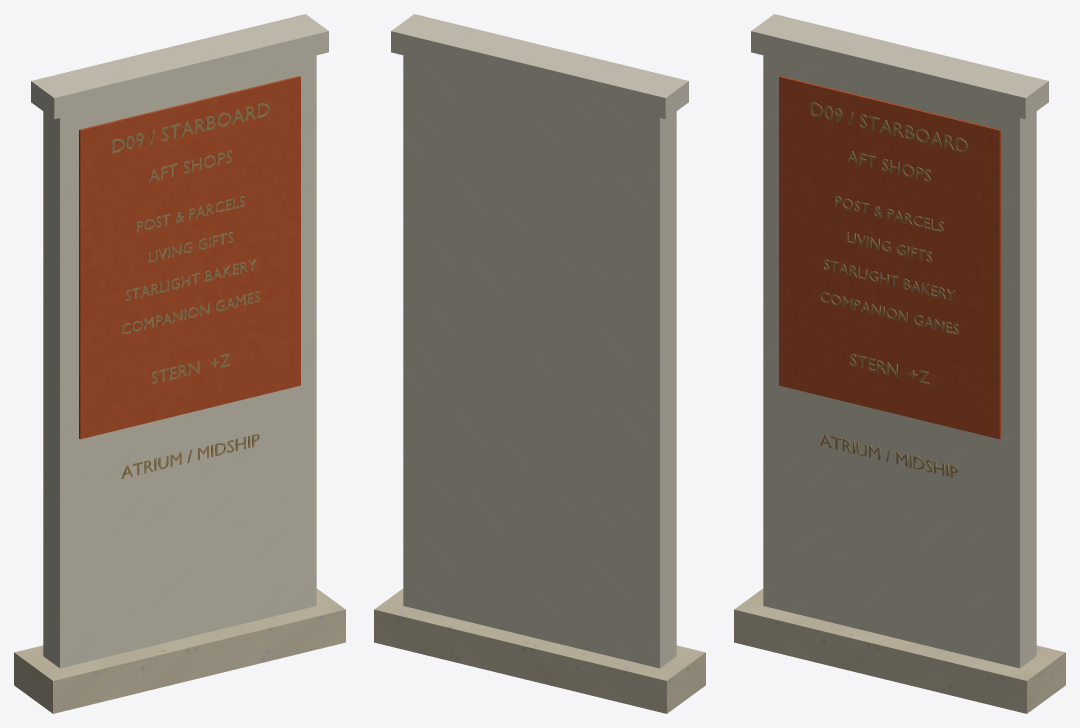
File: guide_starboard_aft_r001.glb
3 renders of one model, left to right at view 1: azimuth 30°, elevation 25°; view 2: azimuth 150°, elevation 25°; view 3: azimuth 330°, elevation 25°, orthographic.
Visible parts, largest first — view 1: profiled_column, recessed_orange_directory, weighted_plinth, crown, heading, atrium, venue_3, venue_2, venue_0, district, venue_1; view 2: profiled_column, weighted_plinth, crown; view 3: profiled_column, recessed_orange_directory, weighted_plinth, crown, heading, atrium, venue_3, venue_2, venue_0, venue_1, district.
Boxes of the visible parts, x1=… form: profiled_column: x1=43, y1=55, x2=316, y2=668; recessed_orange_directory: x1=79, y1=76, x2=300, y2=439; weighted_plinth: x1=14, y1=588, x2=345, y2=713; crown: x1=31, y1=14, x2=328, y2=119; heading: x1=112, y1=103, x2=269, y2=153; atrium: x1=121, y1=434, x2=259, y2=478; venue_3: x1=121, y1=291, x2=260, y2=334; venue_2: x1=125, y1=258, x2=256, y2=300; venue_0: x1=136, y1=196, x2=245, y2=232; district: x1=148, y1=150, x2=232, y2=182; venue_1: x1=148, y1=232, x2=233, y2=262; profiled_column: x1=403, y1=55, x2=676, y2=668; weighted_plinth: x1=374, y1=588, x2=705, y2=713; crown: x1=391, y1=14, x2=688, y2=119; profiled_column: x1=763, y1=55, x2=1036, y2=668; recessed_orange_directory: x1=779, y1=76, x2=1000, y2=439; weighted_plinth: x1=734, y1=588, x2=1065, y2=713; crown: x1=751, y1=14, x2=1048, y2=119; heading: x1=810, y1=101, x2=967, y2=152; atrium: x1=820, y1=434, x2=958, y2=477; venue_3: x1=820, y1=292, x2=958, y2=334; venue_2: x1=823, y1=259, x2=954, y2=300; venue_0: x1=835, y1=195, x2=943, y2=232; venue_1: x1=846, y1=231, x2=931, y2=262; district: x1=847, y1=151, x2=930, y2=181.
Bounding box in the file's own units: 1.3 × 2.58 × 0.3.
Materials: 4 (4 with a texture image).
